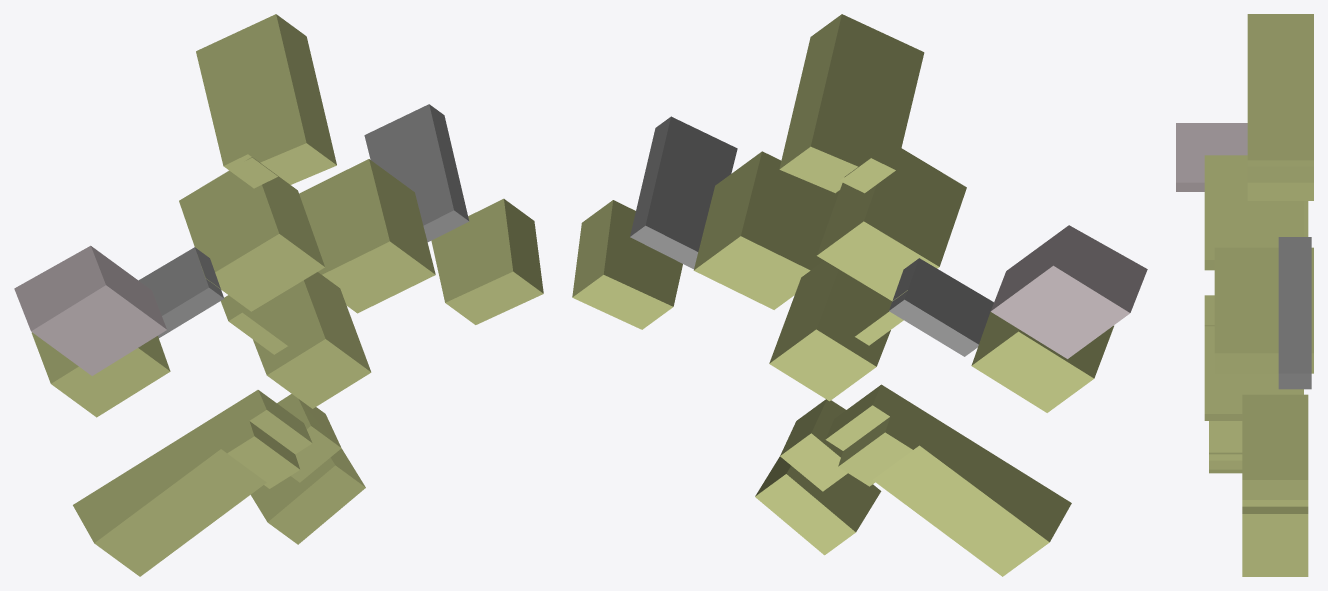
3 renders of one model, left to right at view 1: azimuth 30°, elevation 25°; view 2: azimuth 150°, elevation 25°; view 3: azimuth 270°, elevation 25°, orthographic. The views are drawn at different scales.
Visible parts, largest first — view 1: 0_1_0_2_1_3_2_0_0; view 2: 0_1_0_2_1_3_2_0_0; view 3: 0_1_0_2_1_3_2_0_0.
Boxes of the visible parts, bbox=[...] form: 0_1_0_2_1_3_2_0_0: bbox=[14, 14, 543, 576]; 0_1_0_2_1_3_2_0_0: bbox=[572, 14, 1147, 576]; 0_1_0_2_1_3_2_0_0: bbox=[1176, 14, 1313, 576].
Size of the model in its own units: 56.52 by 54.54 by 12.5.
